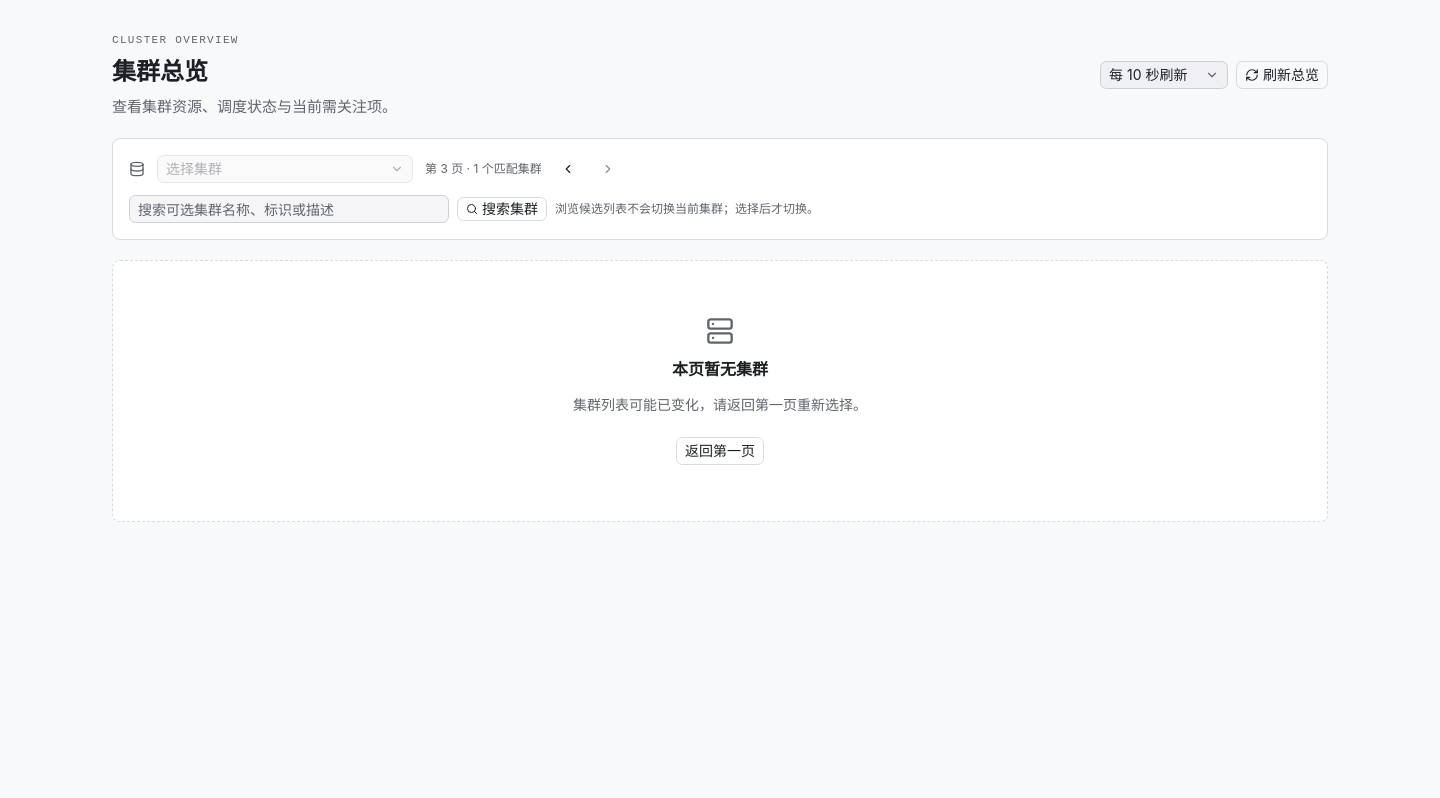
it: 集群总览 › 空页保留返回第一页入口，避免误报没有授权集群
The image size is (1440, 798).
Expected: the heading "本页暂无集群" is shown, [672,357,768,381]
What coordinates should you click on to do the following:
click the button "返回第一页"
I would click on:
 (720, 451)
Its box is [676,437,764,465].
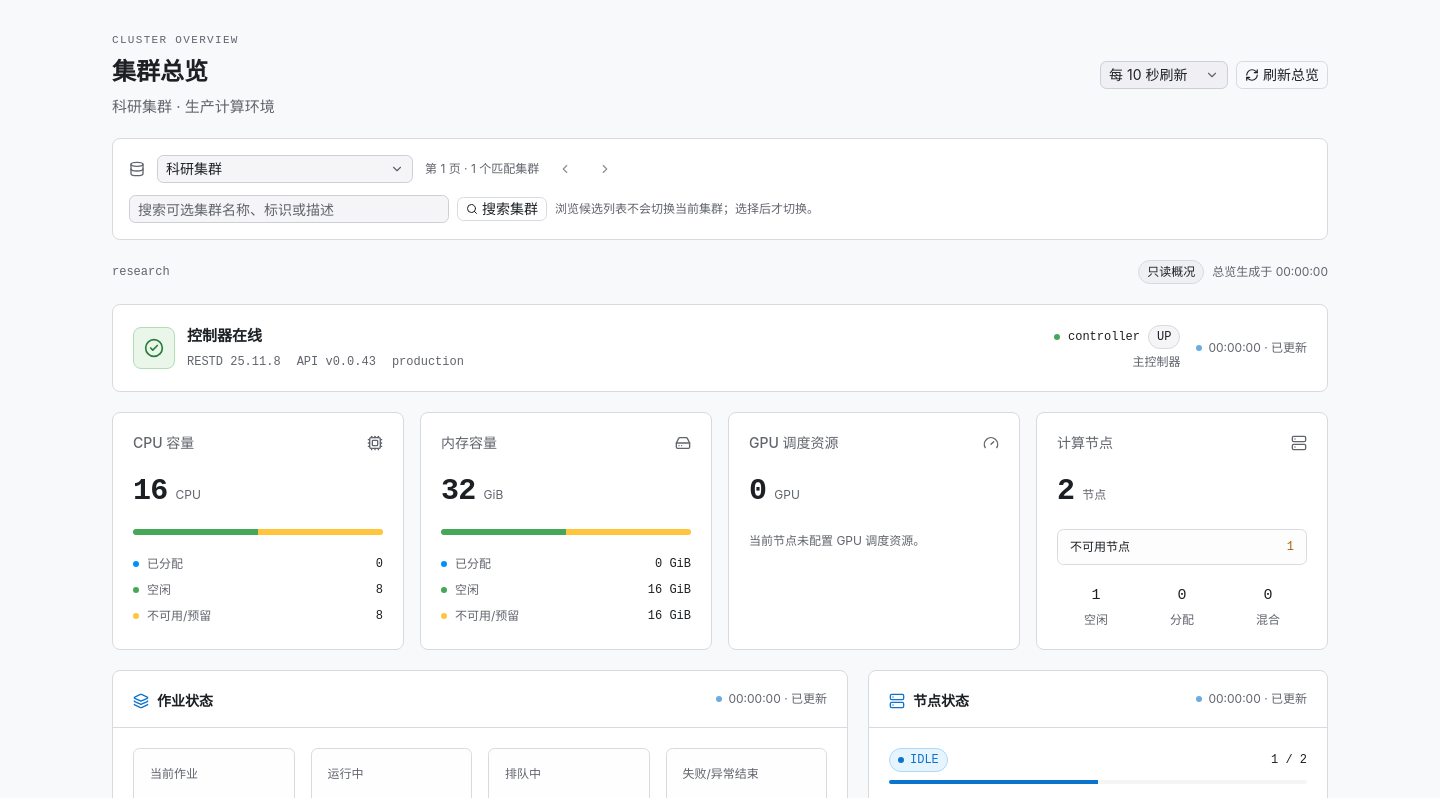
Expected: the heading "控制器在线" is shown, [187,326,262,345]
